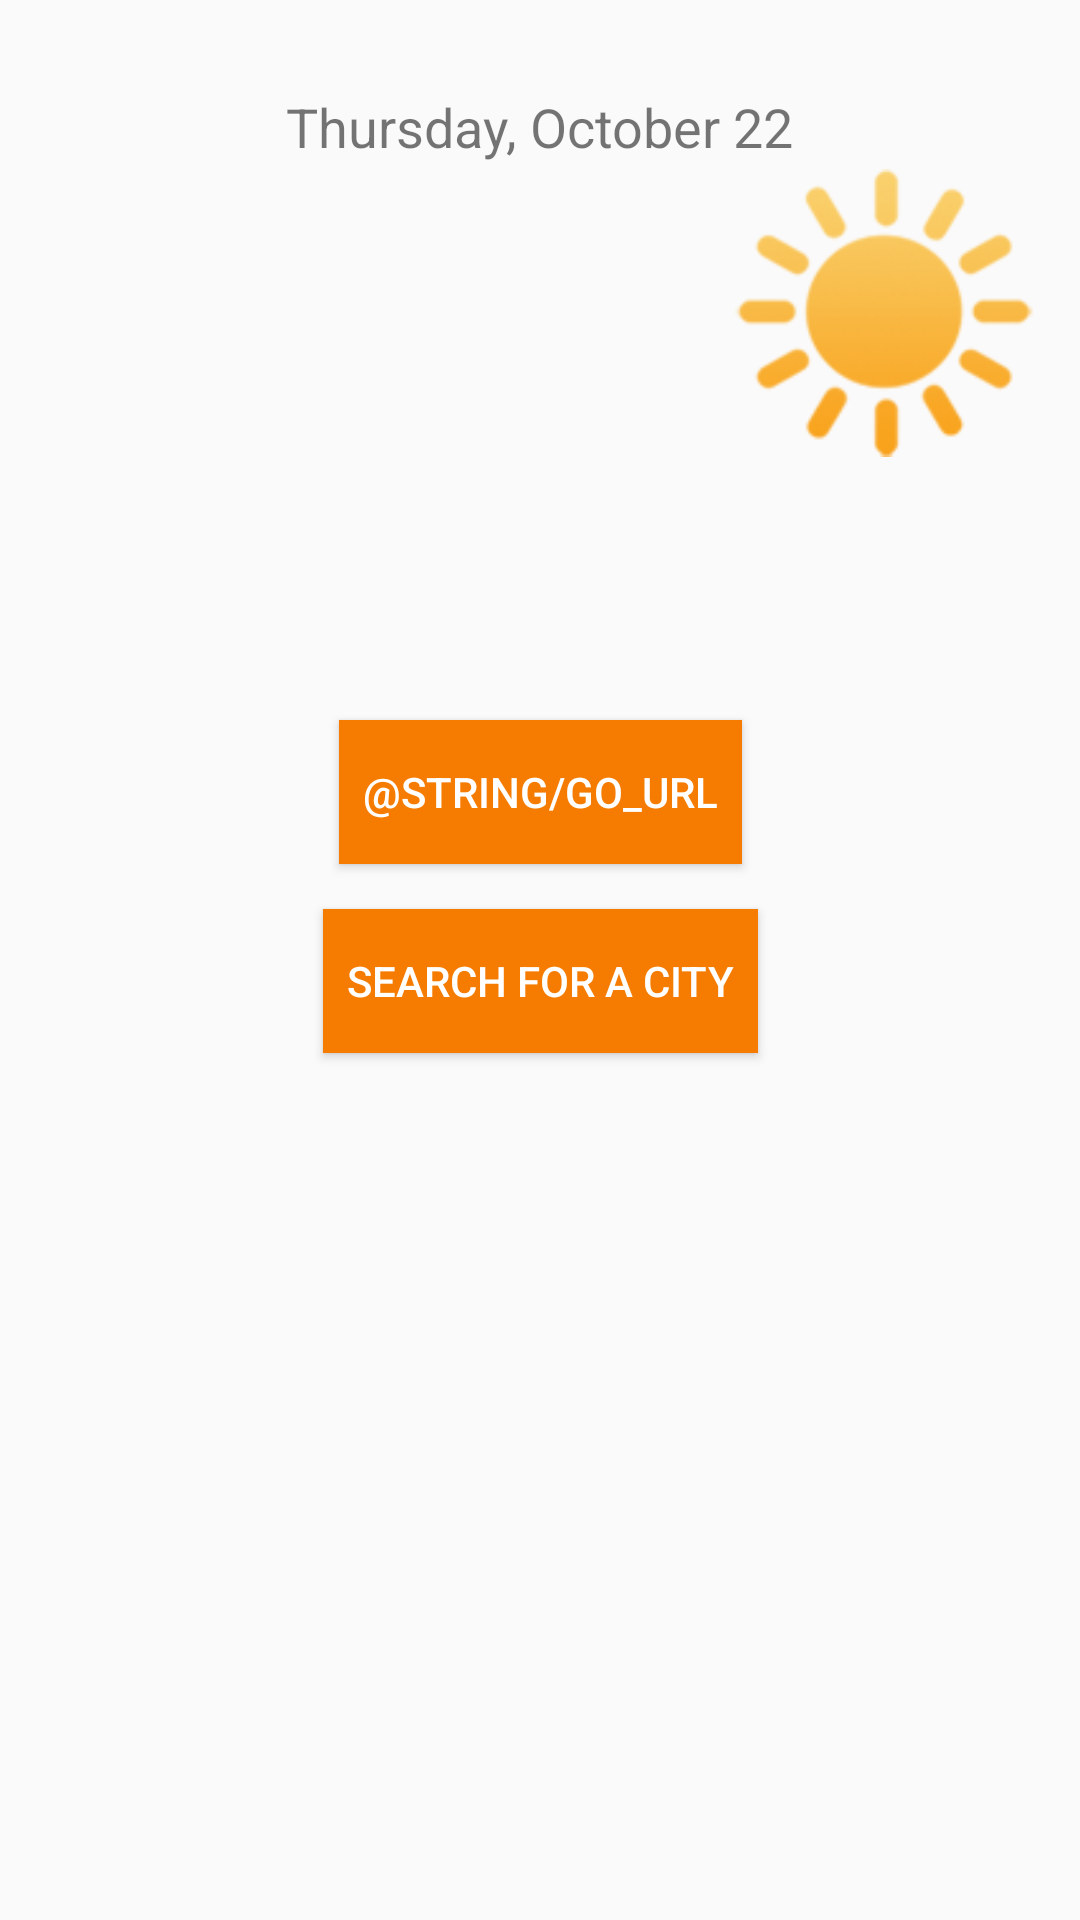

Icon bounding boxes for this 1080x1920 phone screenshot, format (x1, y1, x2, y2):
Сlear: (737, 169, 1033, 457)
